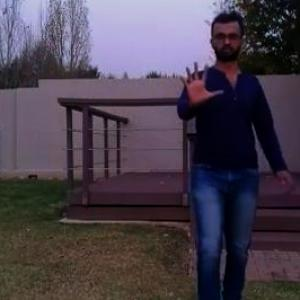follow_hand: (174, 58, 225, 107)
